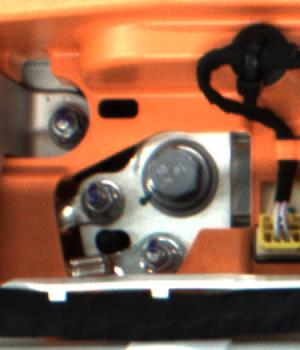nut_b: (141, 134, 228, 219)
screw_s: (41, 108, 85, 141), (80, 176, 117, 215), (138, 237, 174, 272)
